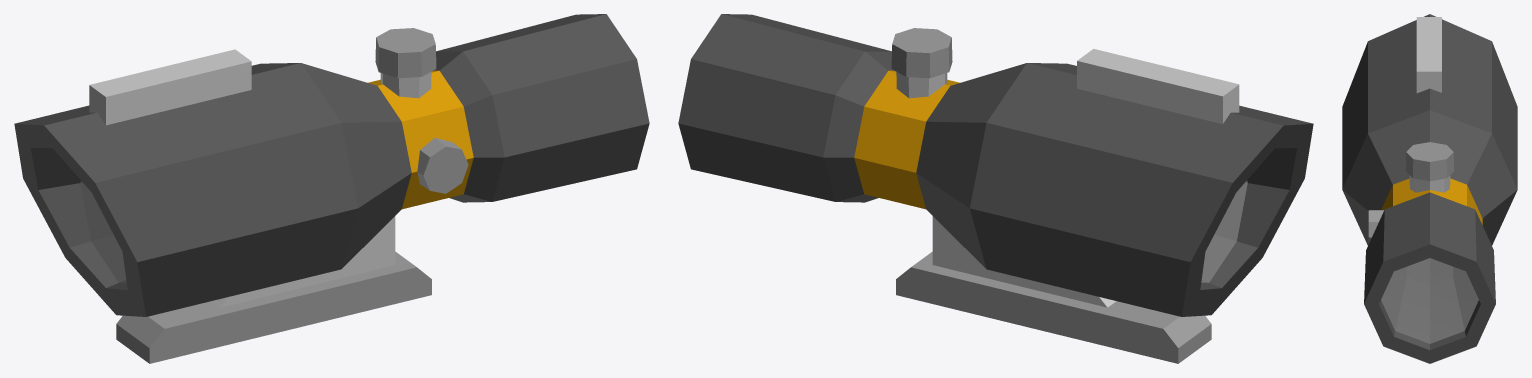
Rendered from SM_ACOG.fbx.
The picture shows the model from 3 angles, left to right: view 1: azimuth 30°, elevation 25°; view 2: azimuth 150°, elevation 25°; view 3: azimuth 270°, elevation 25°; orthographic projection. The views are drawn at different scales.
Parts seen in each view (by area): view 1: SM_ACOG; view 2: SM_ACOG; view 3: SM_ACOG.
Boxes of the visible parts, x1,y1,x2,y2 form: SM_ACOG: [14, 14, 649, 363]; SM_ACOG: [678, 14, 1313, 363]; SM_ACOG: [1342, 14, 1517, 363].
Size of the model in its own units: 17.27 by 7.92 by 6.08.
